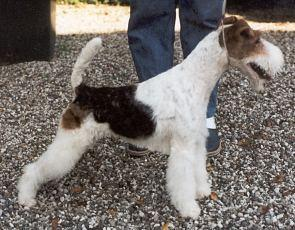wire-haired_fox_terrier: (14, 13, 286, 220)
